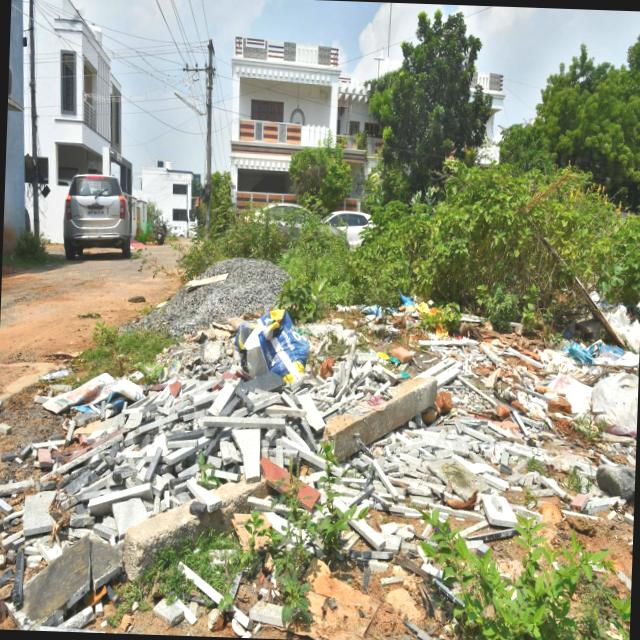garbage: (0, 310, 639, 628)
